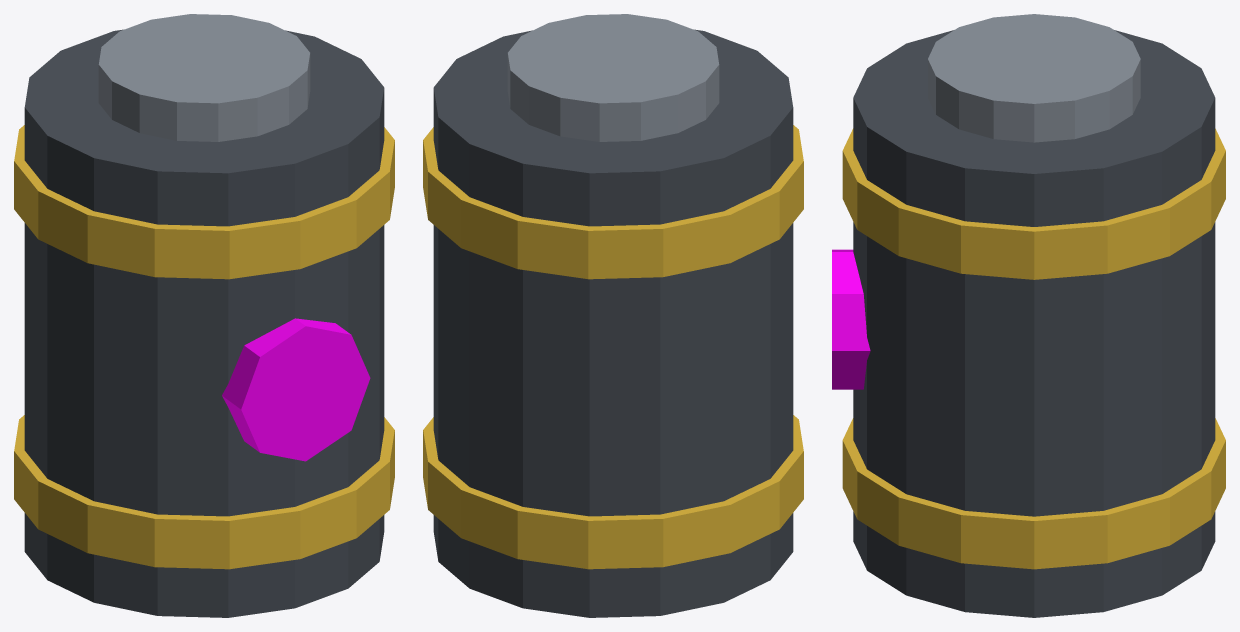
File: objet_conteneur.glb
3 renders of one model, left to right at view 1: azimuth 30°, elevation 25°; view 2: azimuth 150°, elevation 25°; view 3: azimuth 270°, elevation 25°, orthographic.
Parts seen in each view (by area): view 1: corps.002, conteneur_jaune.002, conteneur_acier.002, conteneur_teinte.002; view 2: corps.002, conteneur_jaune.002, conteneur_acier.002; view 3: corps.002, conteneur_jaune.002, conteneur_acier.002, conteneur_teinte.002.
Boxes of the visible parts, bbox=[...] form: corps.002: bbox=[24, 29, 384, 617]; conteneur_jaune.002: bbox=[14, 125, 394, 569]; conteneur_acier.002: bbox=[98, 14, 310, 141]; conteneur_teinte.002: bbox=[222, 318, 370, 461]; corps.002: bbox=[433, 29, 793, 617]; conteneur_jaune.002: bbox=[423, 125, 803, 569]; conteneur_acier.002: bbox=[507, 14, 719, 141]; corps.002: bbox=[853, 30, 1215, 617]; conteneur_jaune.002: bbox=[842, 128, 1225, 569]; conteneur_acier.002: bbox=[928, 14, 1140, 142]; conteneur_teinte.002: bbox=[832, 249, 870, 389].
Bounding box in the file's own units: 0.18 × 0.25 × 0.185.
